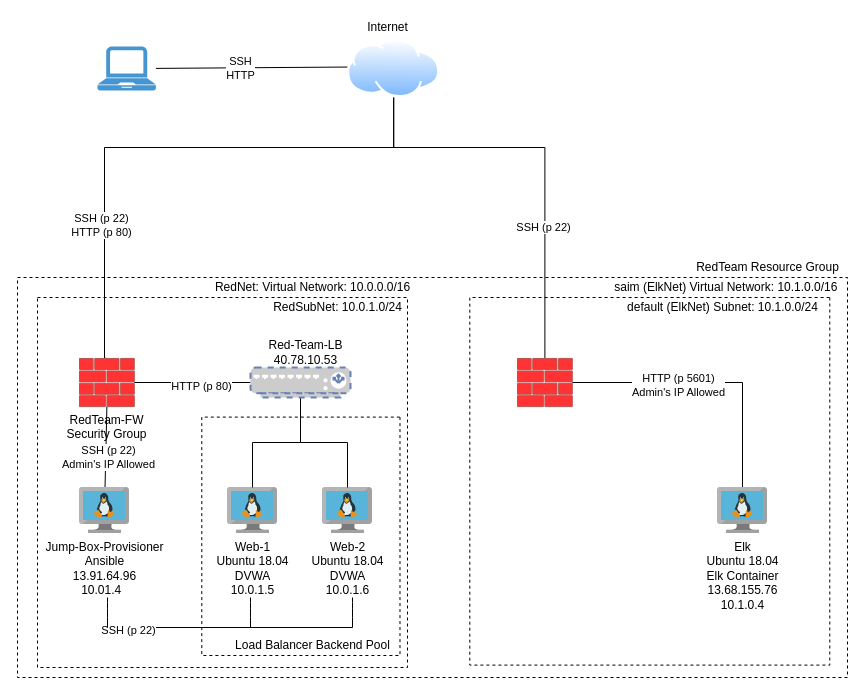
This 865x695 diagram has some shape labels left out. Each missing label, with the centre of its shape:
"Elk-nsg Security Group" goes at (x=544, y=382).
"Workstation" goes at (x=126, y=68).
